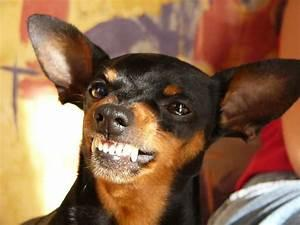dog: (8, 12, 299, 224)
